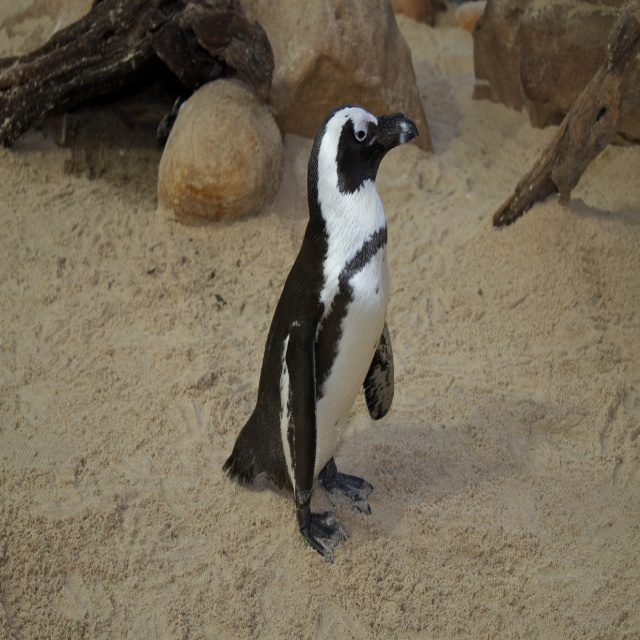Penguin: (222, 106, 421, 566)
